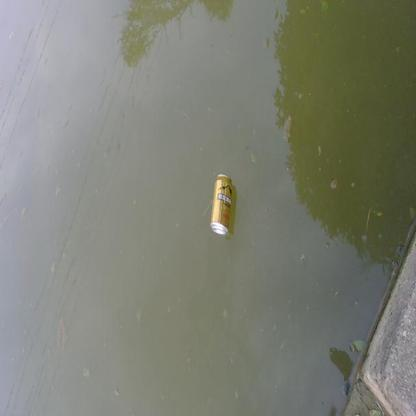can: (211, 172, 231, 234)
